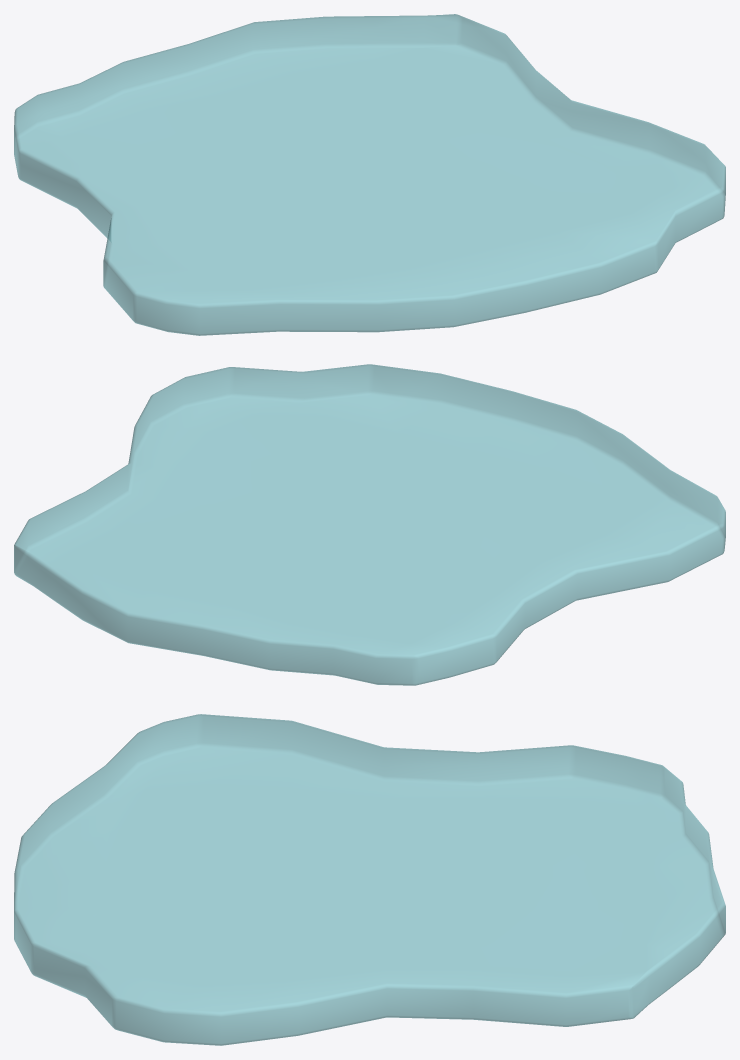
The model's file is pond_solido.fbx.
3 renders of one model, top to bottom at view 1: azimuth 30°, elevation 25°; view 2: azimuth 150°, elevation 25°; view 3: azimuth 270°, elevation 25°, orthographic. The views are drawn at different scales.
Visible parts, largest first — view 1: piano solidify; view 2: piano solidify; view 3: piano solidify.
Part boxes in pixels (x1,y1,x2,y2): piano solidify: (14, 14, 725, 335); piano solidify: (14, 364, 725, 685); piano solidify: (14, 714, 725, 1045).
Bounding box in the file's own units: 1924 × 101 × 1925.
